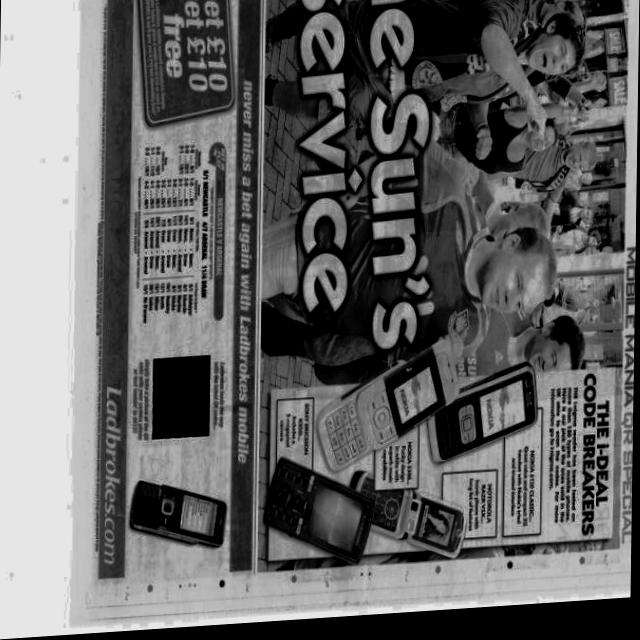qr_code: (153, 359, 210, 442)
